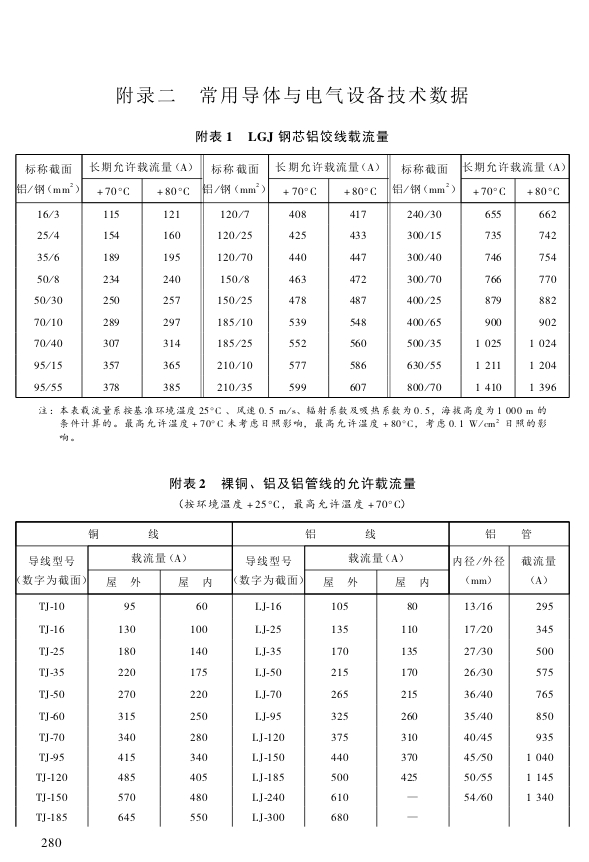table: (15, 520, 570, 826), (15, 154, 570, 397)
